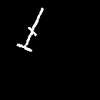double_crochet: (17, 8, 42, 50)
